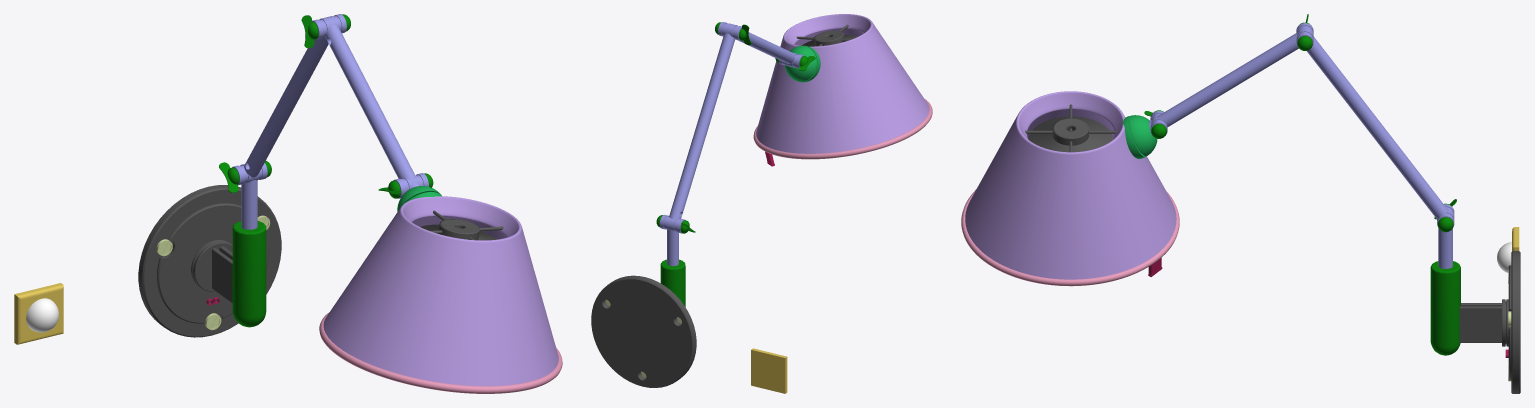
The model's file is lampa kreplenie.obj.
The picture shows the model from 3 angles, left to right: view 1: azimuth 30°, elevation 25°; view 2: azimuth 150°, elevation 25°; view 3: azimuth 270°, elevation 25°; orthographic projection. The views are drawn at different scales.
Visible parts, largest first — view 1: Line13, Arch28_019_25, Arch28_019_23, Capsule01, Cylinder08, Cylinder05, Torus01, Box09, Arch28_019_24, Arch28_019_22, Arch28_019_16, GeoSphere01 (+2 smaller); view 2: Line13, Arch28_019_23, Cylinder05, Box09, Torus01, Capsule01, Sphere01, Cylinder08, Arch28_019_16, Cylinder01, Cylinder06; view 3: Line13, Cylinder05, Capsule01, Cylinder08, Arch28_019_16, Torus01, Arch28_019_24, Arch28_019_23, Sphere01, Cylinder01.
Boxes of the visible parts, x1,y1,x2,y2 form: Line13: [323, 196, 558, 386]; Arch28_019_25: [157, 203, 269, 323]; Arch28_019_23: [138, 185, 281, 337]; Capsule01: [232, 221, 266, 327]; Cylinder08: [325, 24, 419, 188]; Cylinder05: [244, 37, 328, 177]; Torus01: [319, 312, 562, 393]; Box09: [14, 283, 63, 344]; Arch28_019_24: [212, 246, 232, 302]; Arch28_019_22: [191, 240, 232, 291]; Arch28_019_16: [420, 219, 497, 240]; GeoSphere01: [26, 298, 58, 332]; Line13: [756, 14, 929, 153]; Arch28_019_23: [591, 275, 696, 387]; Cylinder05: [669, 33, 735, 218]; Box09: [751, 348, 787, 393]; Torus01: [753, 99, 932, 159]; Capsule01: [660, 259, 685, 306]; Sphere01: [785, 45, 820, 82]; Cylinder08: [735, 32, 795, 63]; Arch28_019_16: [802, 30, 857, 46]; Cylinder01: [667, 229, 678, 266]; Cylinder06: [659, 214, 685, 233]; Line13: [965, 91, 1176, 279]; Cylinder05: [1307, 36, 1448, 218]; Capsule01: [1430, 261, 1460, 355]; Cylinder08: [1148, 32, 1298, 127]; Arch28_019_16: [1028, 116, 1113, 152]; Torus01: [961, 189, 1179, 286]; Arch28_019_24: [1459, 303, 1501, 342]; Arch28_019_23: [1511, 251, 1520, 393]; Sphere01: [1123, 115, 1157, 158]; Cylinder01: [1438, 228, 1452, 268].
Size of the model in its own units: 300 by 421 by 586.
